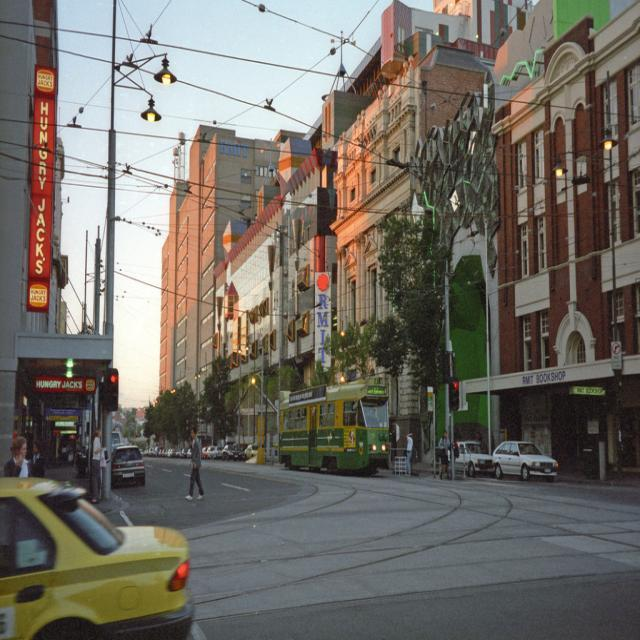traffic light: (107, 368, 119, 411), (448, 378, 460, 411)
